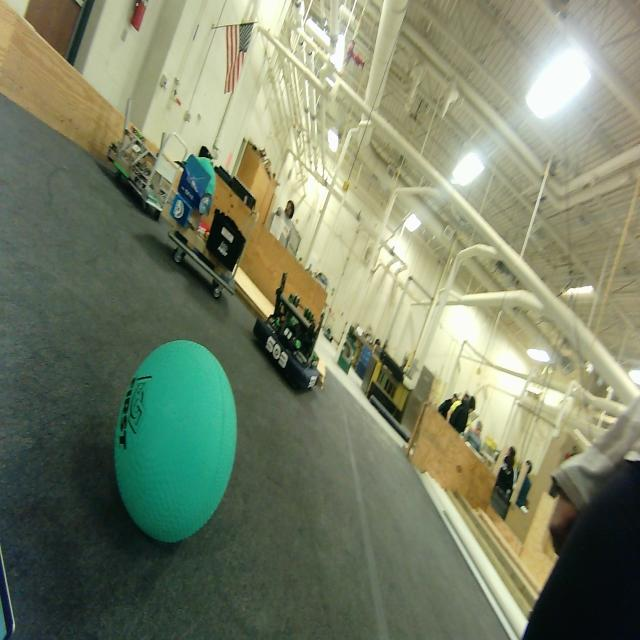algae: (114, 342, 237, 542)
